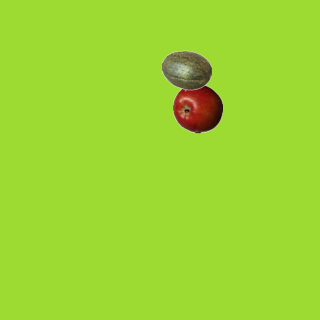Apple Braeburn: (172, 83, 222, 133)
Melon Piel de Sapo: (161, 45, 211, 95)
